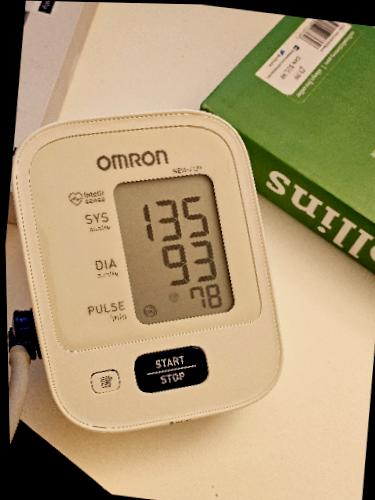bpm: (110, 165, 238, 330)
